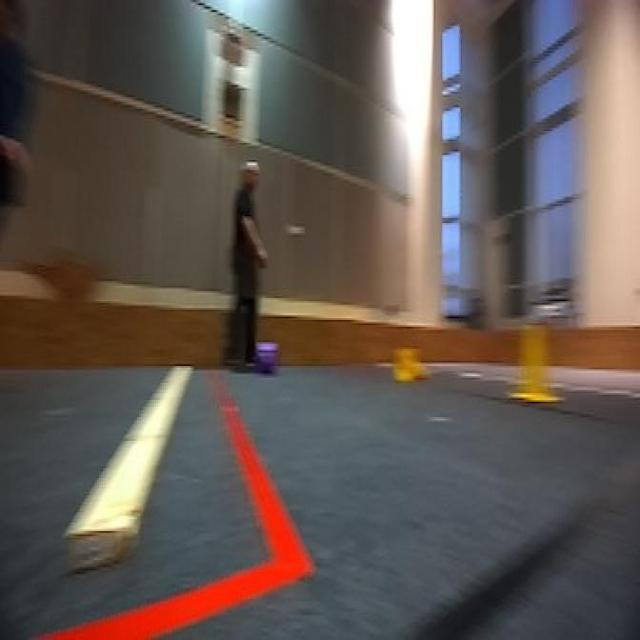frc_cone: (499, 322, 562, 407), (394, 348, 434, 387)
frc_cube: (257, 344, 277, 374)
